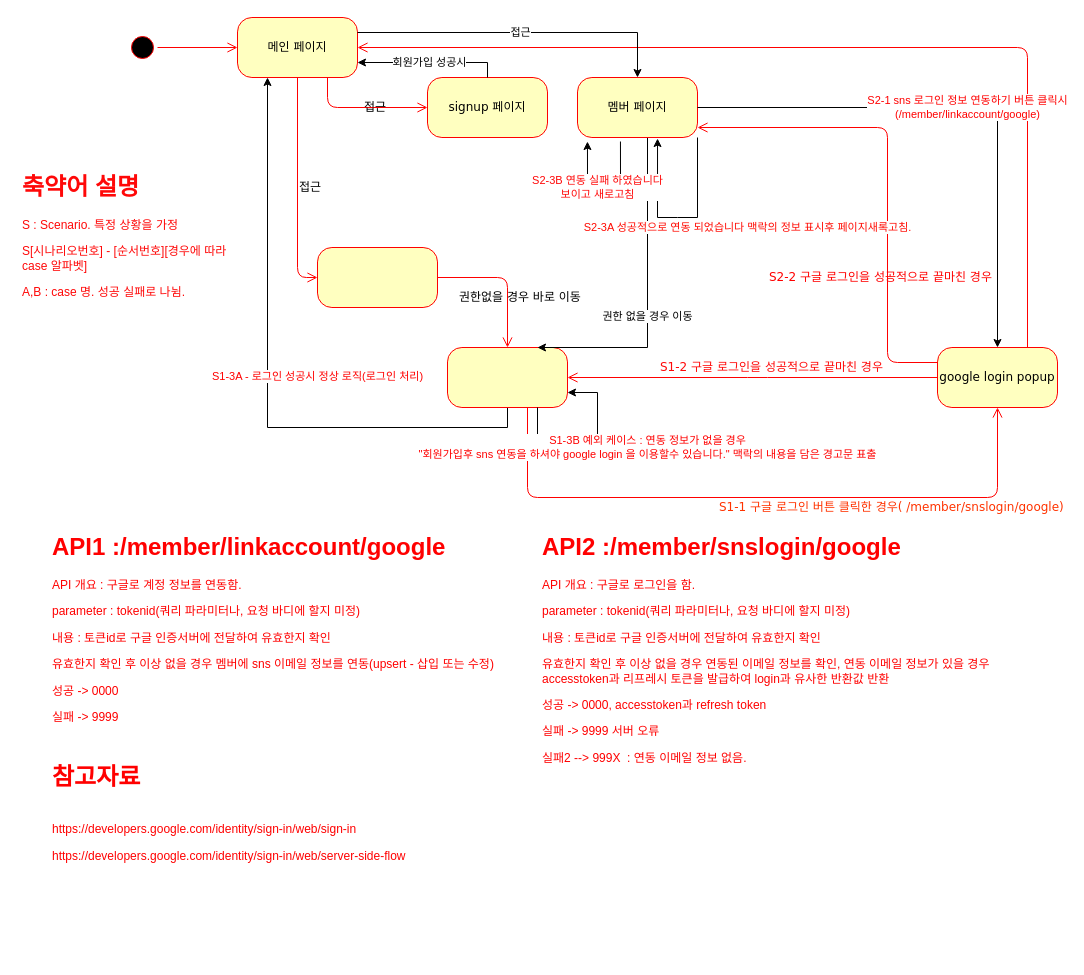
The diagram is 1084 pixels wide and 975 high, and some of its shapes have lost their labels. Each missing label, with the box of its shape:
login 페이지: (446, 346, 568, 408)
권한이 필요한 페이지: (316, 246, 438, 308)
